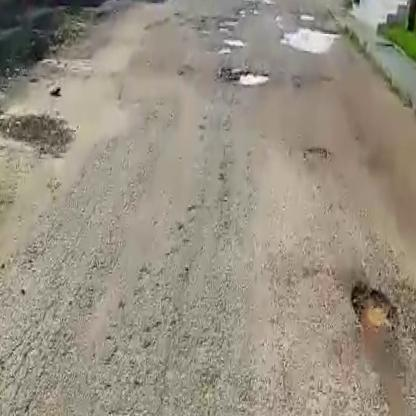pothole: (350, 281, 401, 335), (283, 21, 338, 52), (225, 65, 274, 88), (215, 37, 244, 49)
